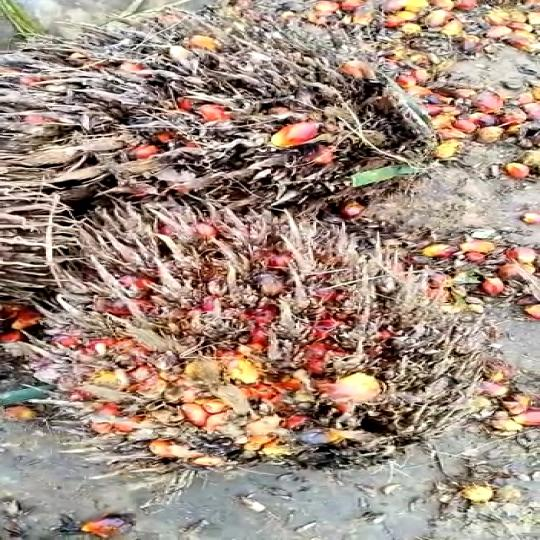terlalu masak: (30, 213, 447, 456), (7, 34, 407, 200)
